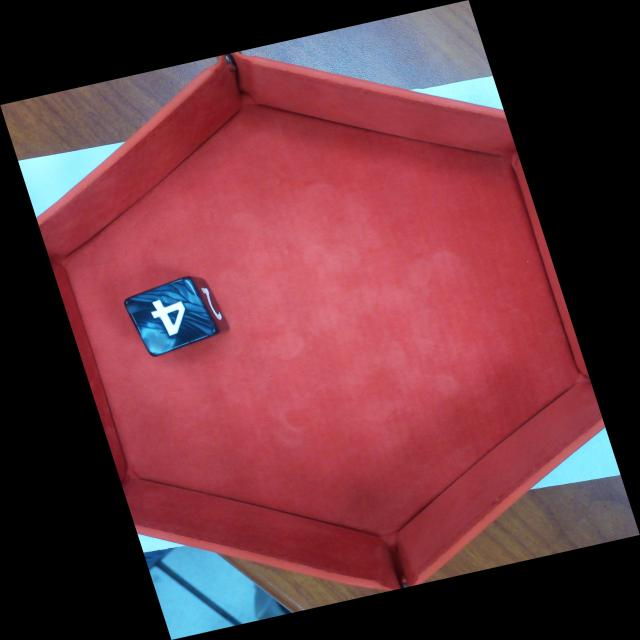dice: (121, 275, 221, 359)
